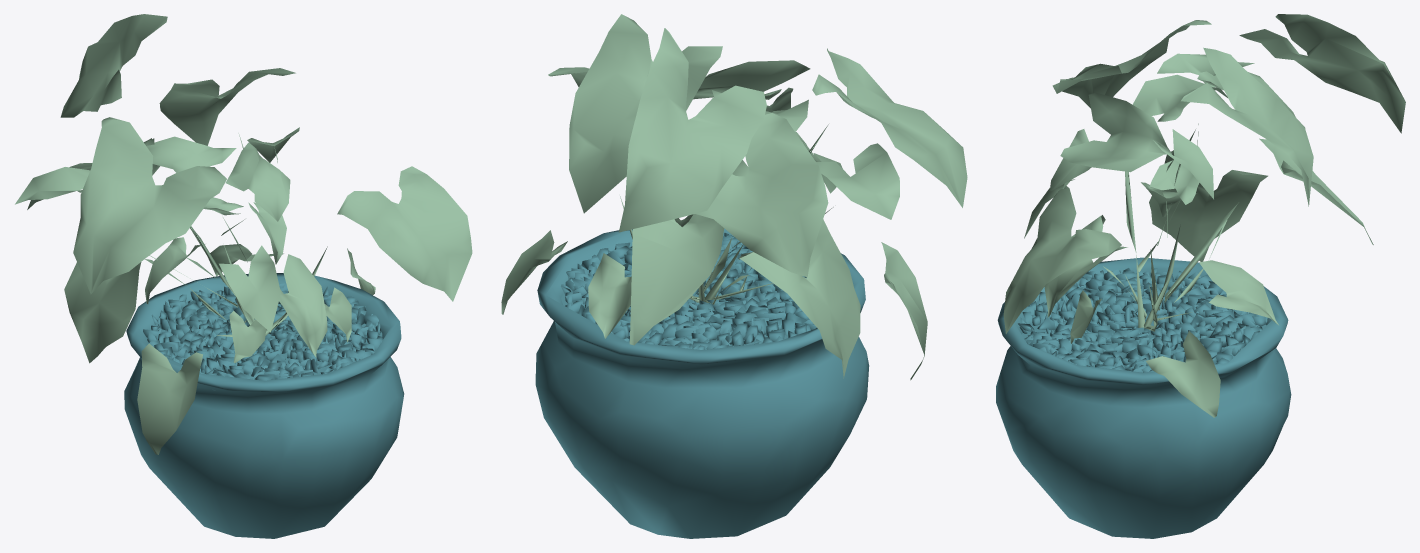
File: gallery-plant-stylized.glb
3 views of the same model, side by side, from view 1: azimuth 30°, elevation 25°; view 2: azimuth 150°, elevation 25°; view 3: azimuth 270°, elevation 25° (orthographic). The views are drawn at different scales.
Visible parts, largest first — view 1: potted_plant_02_leaves, potted_plant_02_pot; view 2: potted_plant_02_leaves, potted_plant_02_pot; view 3: potted_plant_02_pot, potted_plant_02_leaves.
Part boxes in pixels (x1,y1,x2,y2): potted_plant_02_leaves: (15,14,472,454); potted_plant_02_pot: (124,273,404,538); potted_plant_02_leaves: (501,14,967,380); potted_plant_02_pot: (535,228,869,538); potted_plant_02_pot: (996,257,1291,538); potted_plant_02_leaves: (1003,14,1405,417).
Bounding box in the file's own units: 0.7009 × 0.8395 × 0.6554.
